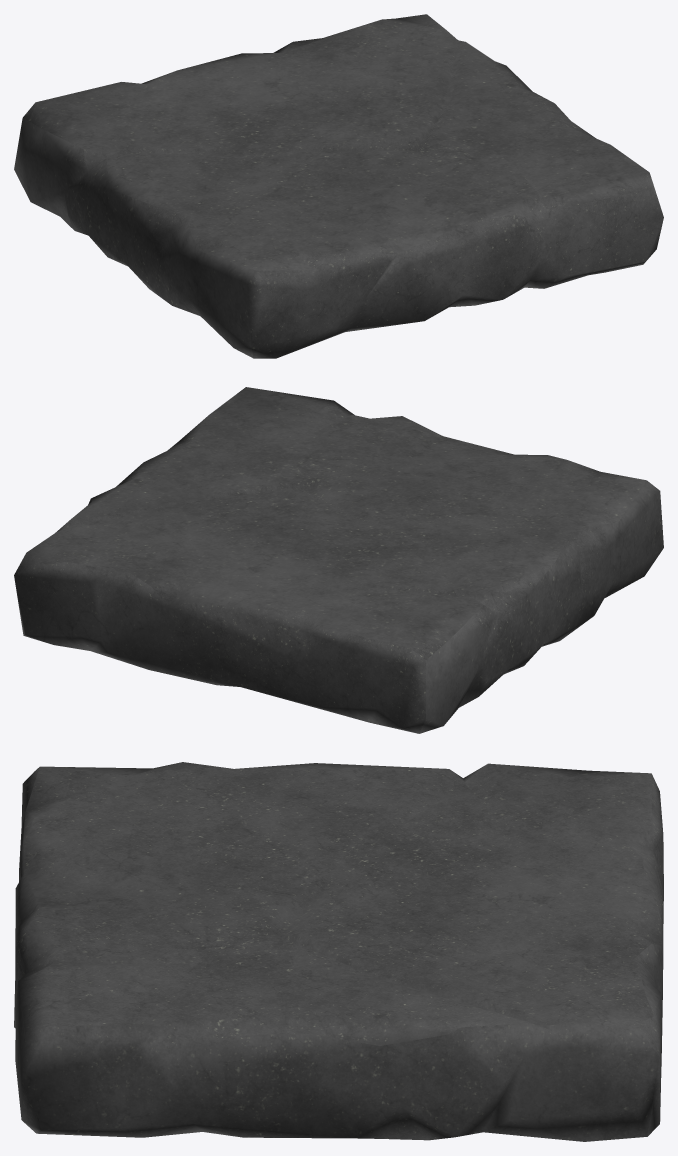
File: SM_Slab5.fbx
3 views of the same model, one above another, from view 1: azimuth 30°, elevation 25°; view 2: azimuth 150°, elevation 25°; view 3: azimuth 270°, elevation 25° (orthographic). The views are drawn at different scales.
Parts seen in each view (by area): view 1: SM_Slab5_LOD0; view 2: SM_Slab5_LOD0; view 3: SM_Slab5_LOD0.
Part boxes in pixels (x1,y1,x2,y2): SM_Slab5_LOD0: [14, 14, 663, 358]; SM_Slab5_LOD0: [14, 387, 663, 733]; SM_Slab5_LOD0: [14, 762, 663, 1141].
Size of the model in its own units: 154 by 153 by 30.19.
1 material, 1 textured.
